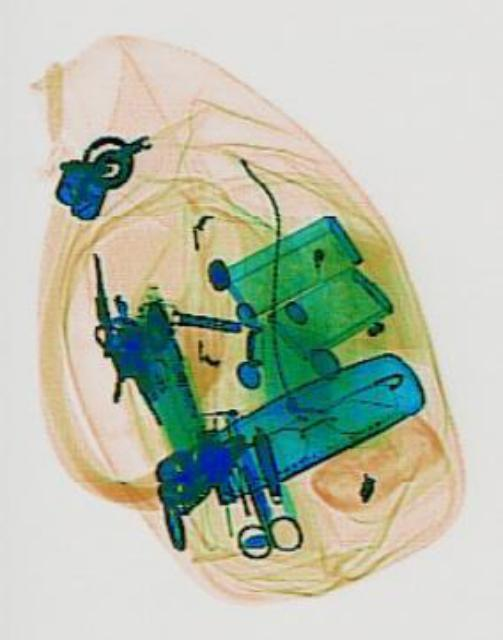Scissors: (207, 431, 304, 567)
